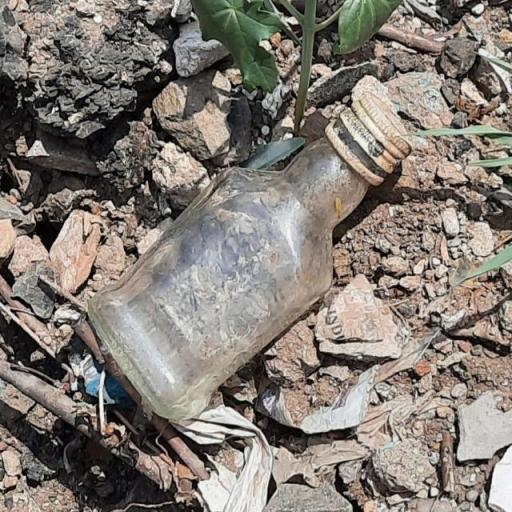glass: (87, 88, 423, 430)
